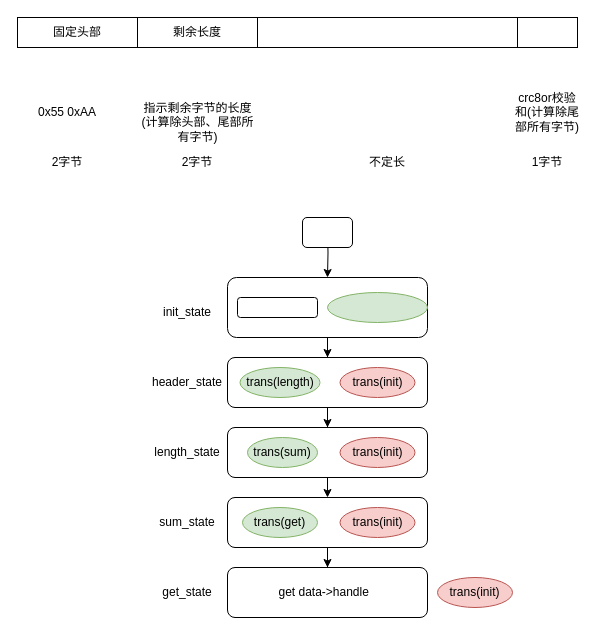
This 600x635 diagram has some shape labels left out. Here are the shapes that lost their labels. From the top down, the centre of each, then its label:
At (387,32): "数据负载".
At (547,32): "校验位".
At (327,232): "init".
At (277,307): "sig_header".
At (377,307): "trans(header)".
